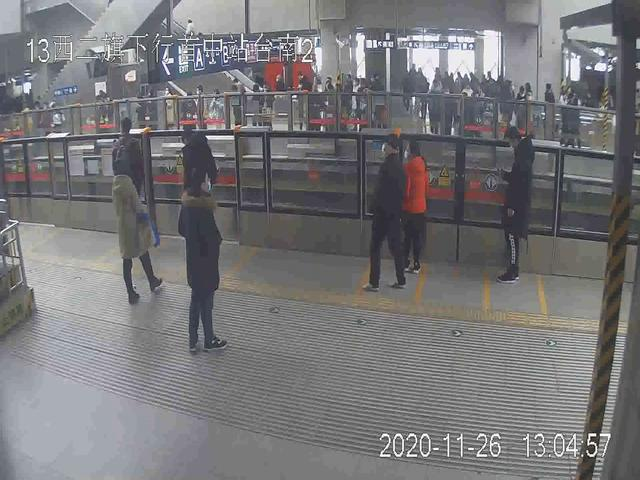person: (177, 167, 230, 351), (109, 162, 163, 300), (368, 134, 409, 292), (500, 125, 536, 287), (112, 115, 157, 244), (180, 125, 223, 247), (403, 140, 431, 277)
